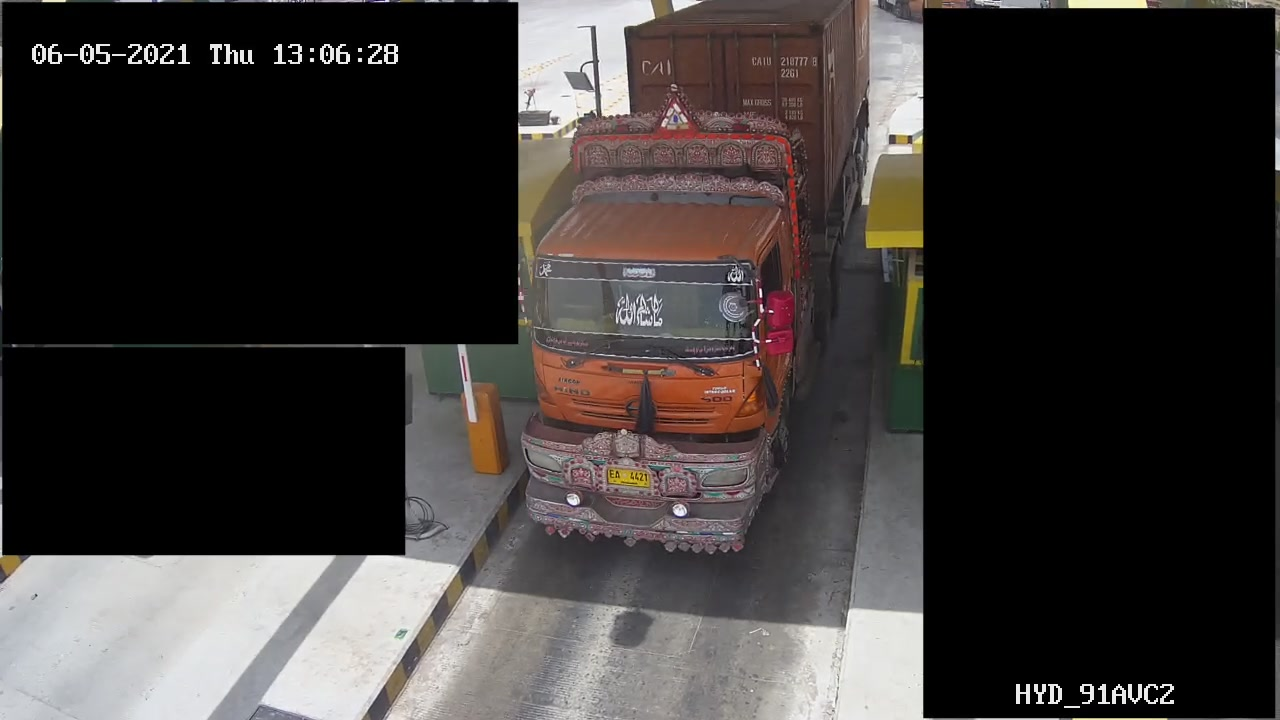F6: (518, 2, 884, 562)
